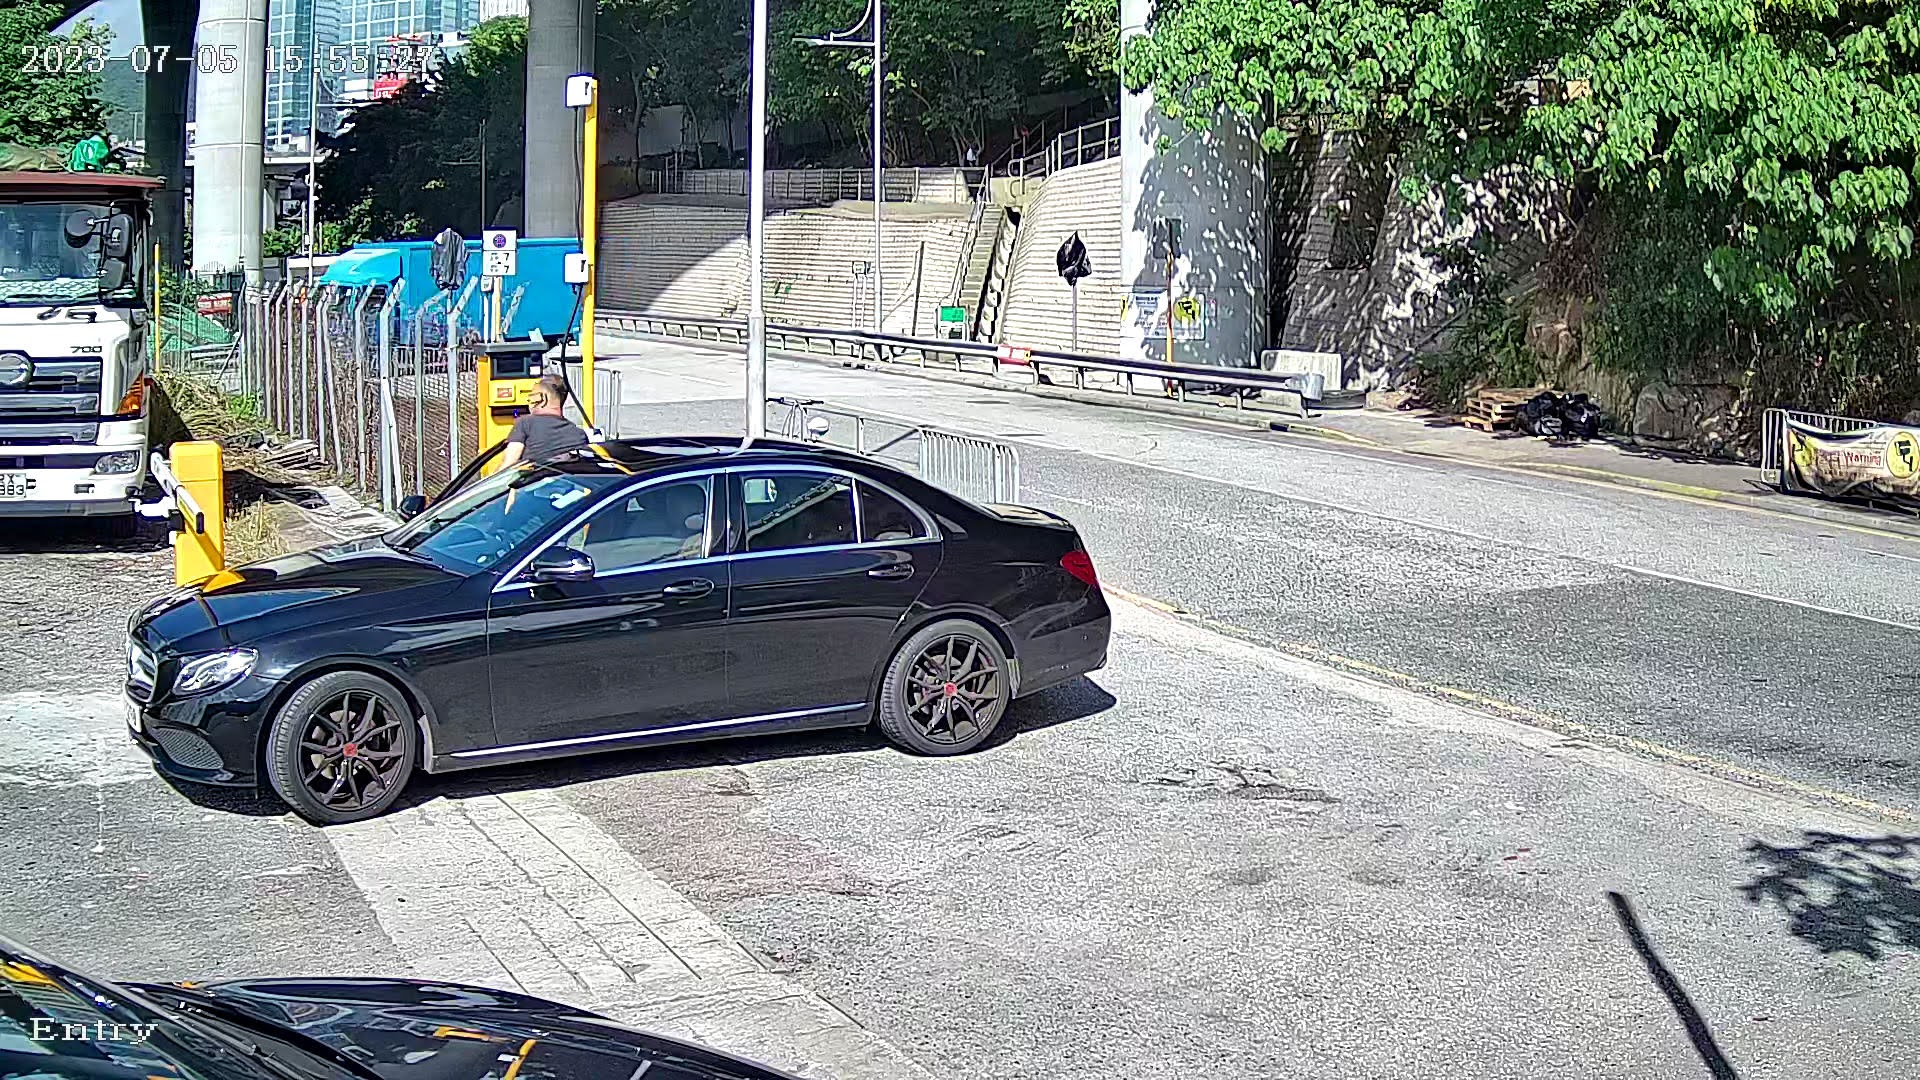privatecar: (98, 400, 1139, 851)
